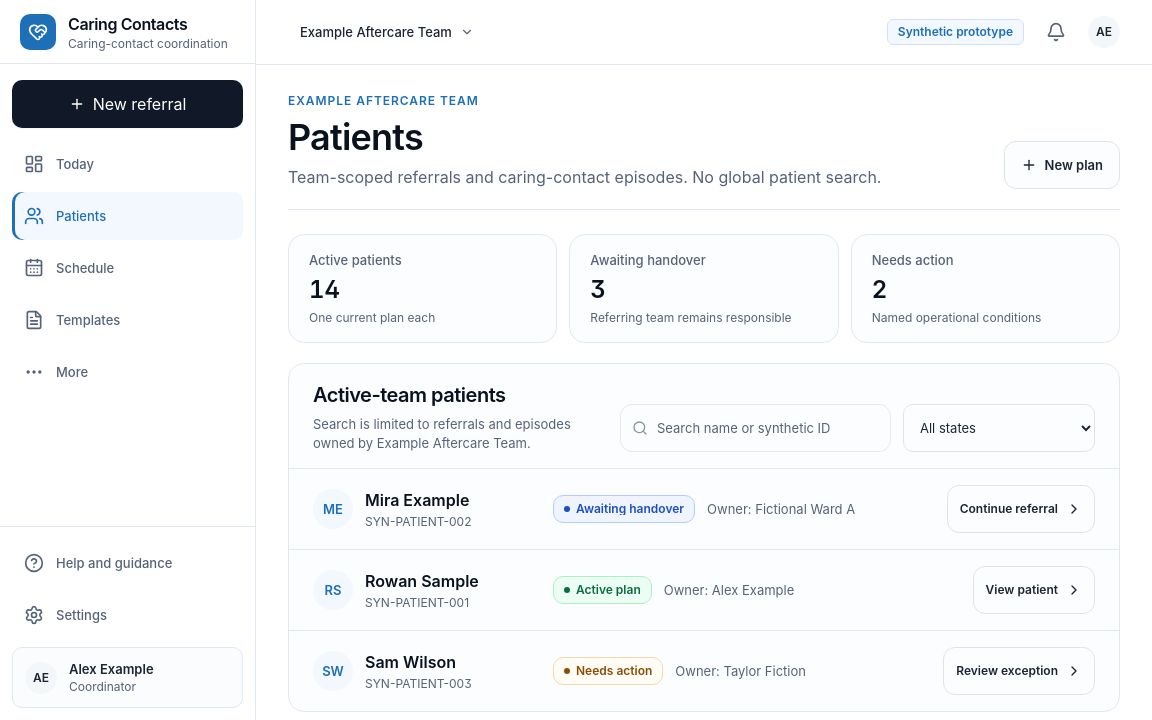
Scenario: Caring Contact routable mockup › filters the active-team patient directory without widening its scope
This screenshot has width=1152, height=720.
Select "Active plan" in the dropdown named "Filter by patient state" at [999, 428], box [903,404,1095,452]
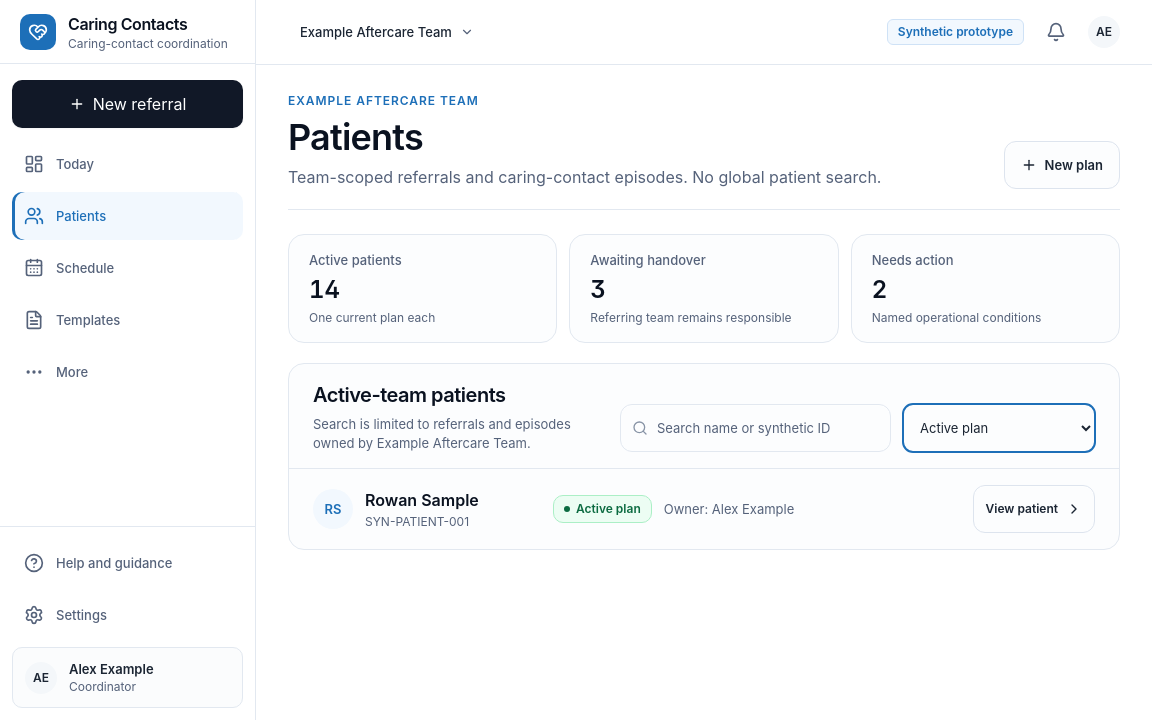
Expected: the heading "Rowan Sample" is shown, [365,490,479,510]
Result: the heading "Mira Example" is gone
